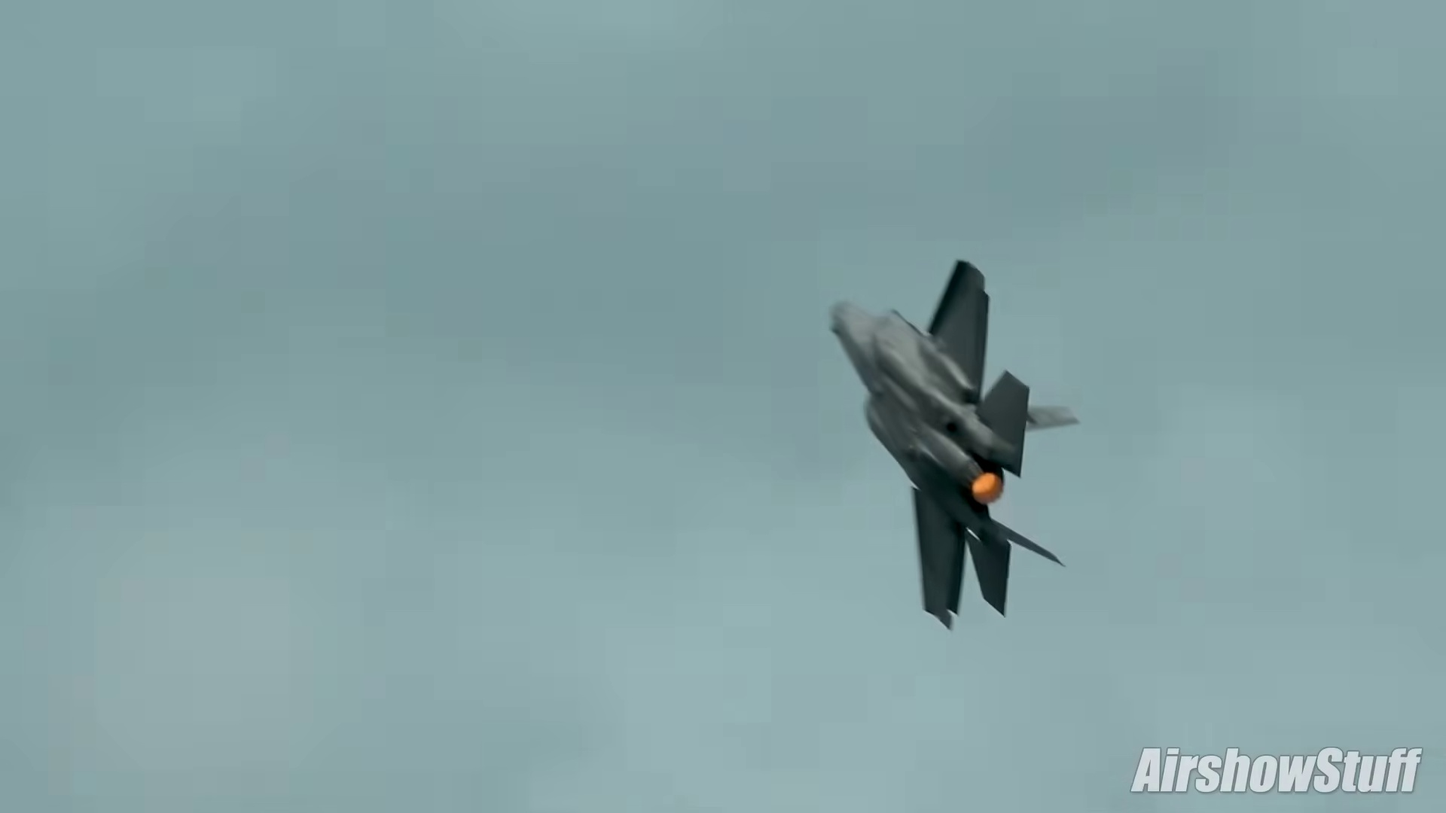F35: (817, 254, 1093, 635)
